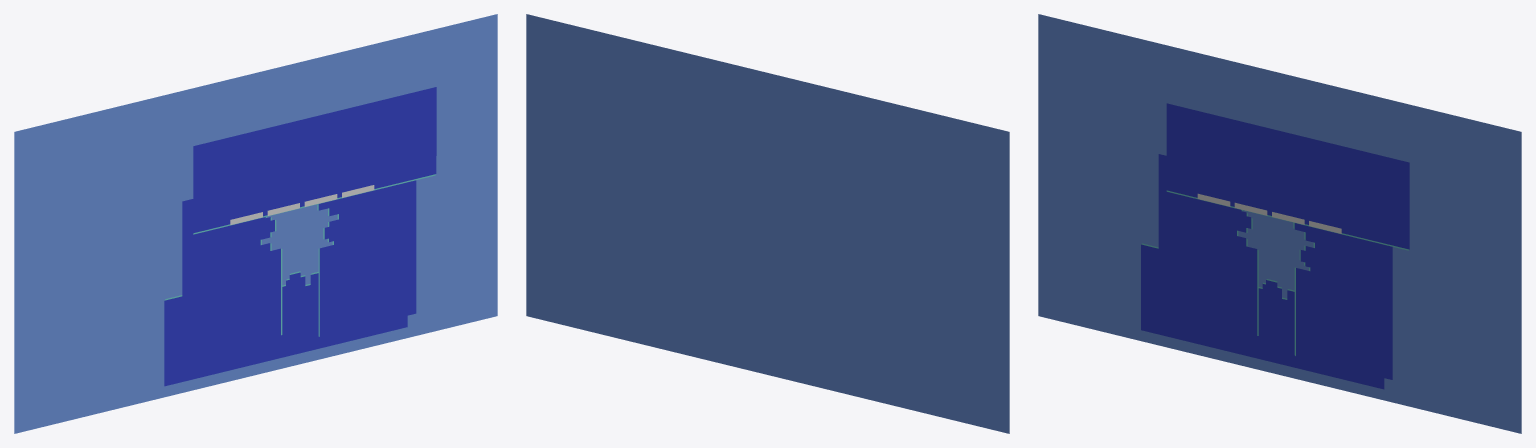
The model's file is Highscore.fbx.
3 views of the same model, side by side, from view 1: azimuth 30°, elevation 25°; view 2: azimuth 150°, elevation 25°; view 3: azimuth 330°, elevation 25° (orthographic).
Visible parts, largest first — view 1: Plane.018, Plane.020, Plane.019, Plane.017, Plane.021; view 2: Plane.018; view 3: Plane.018, Plane.020, Plane.019, Plane.017, Plane.021.
Boxes of the visible parts, x1,y1,x2,y2 form: Plane.018: (14, 14, 497, 433); Plane.020: (193, 87, 436, 234); Plane.019: (317, 180, 416, 336); Plane.017: (182, 199, 282, 359); Plane.021: (164, 271, 407, 386); Plane.018: (526, 14, 1009, 433); Plane.018: (1038, 14, 1521, 433); Plane.020: (1166, 103, 1409, 250); Plane.019: (1293, 222, 1392, 379); Plane.017: (1158, 154, 1258, 335); Plane.021: (1141, 243, 1384, 389).
Bounding box in the file's own units: 152076 × 90896 × 15460.
